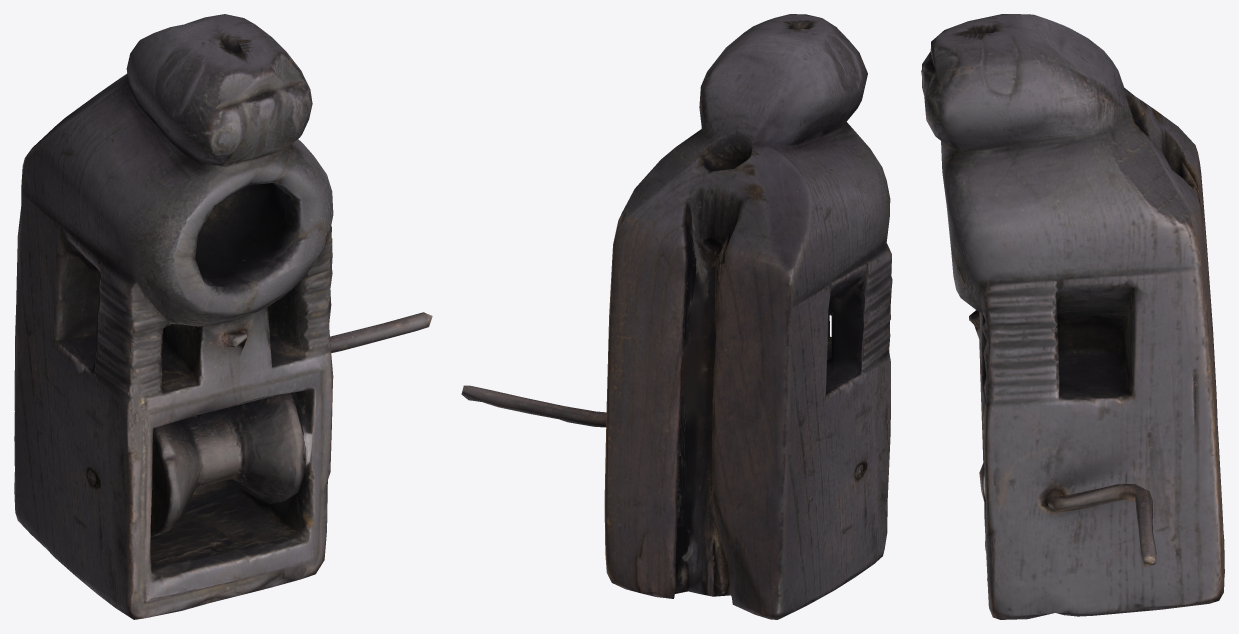
File: SM_Ink_Stick_case.fbx
3 views of the same model, side by side, from view 1: azimuth 30°, elevation 25°; view 2: azimuth 150°, elevation 25°; view 3: azimuth 270°, elevation 25° (orthographic). The views are drawn at different scales.
Parts seen in each view (by area): view 1: KCDF_2022_prop_Ink_Stick_Case_Mesh; view 2: KCDF_2022_prop_Ink_Stick_Case_Mesh; view 3: KCDF_2022_prop_Ink_Stick_Case_Mesh.
Part boxes in pixels (left/top/right/bottom): KCDF_2022_prop_Ink_Stick_Case_Mesh: left=14, top=14, right=432, bottom=619; KCDF_2022_prop_Ink_Stick_Case_Mesh: left=461, top=14, right=892, bottom=619; KCDF_2022_prop_Ink_Stick_Case_Mesh: left=921, top=14, right=1224, bottom=619.
Size of the model in its own units: 24.6 by 34.08 by 17.
Materials: 1 (1 with a texture image).
